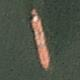ship: (0, 6, 18, 73)
